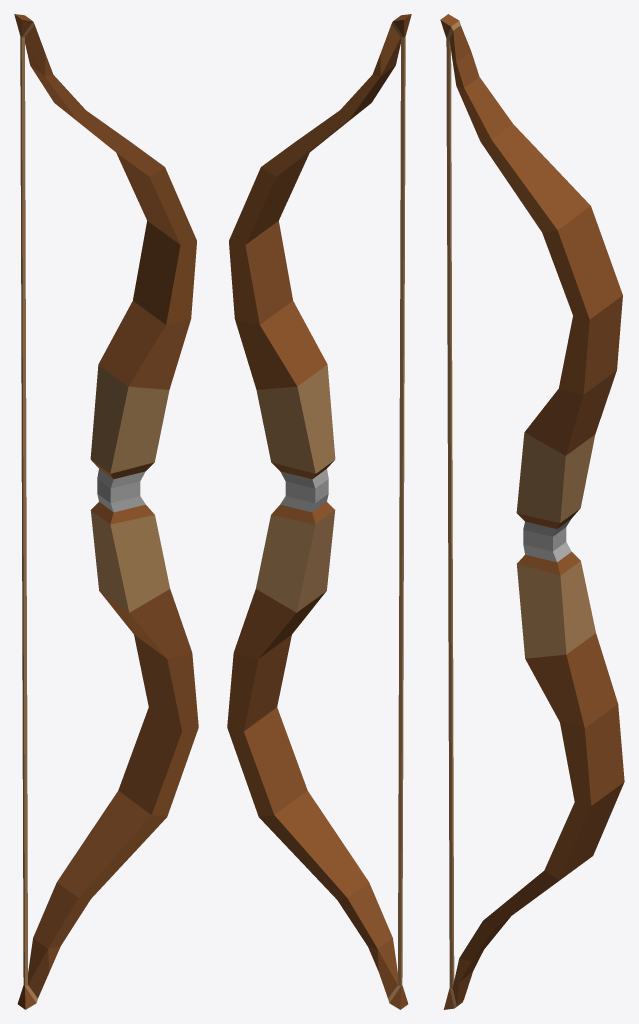
The model's file is arco.glb.
3 renders of one model, left to right at view 1: azimuth 30°, elevation 25°; view 2: azimuth 150°, elevation 25°; view 3: azimuth 330°, elevation 25°, orthographic.
Parts seen in each view (by area): view 1: Bow; view 2: Bow; view 3: Bow.
Boxes of the visible parts, x1,y1,x2,y2 form: Bow: [14, 14, 198, 1009]; Bow: [227, 14, 411, 1009]; Bow: [440, 14, 624, 1009].
Size of the model in its own units: 0.2008 by 1.16 by 0.071.
